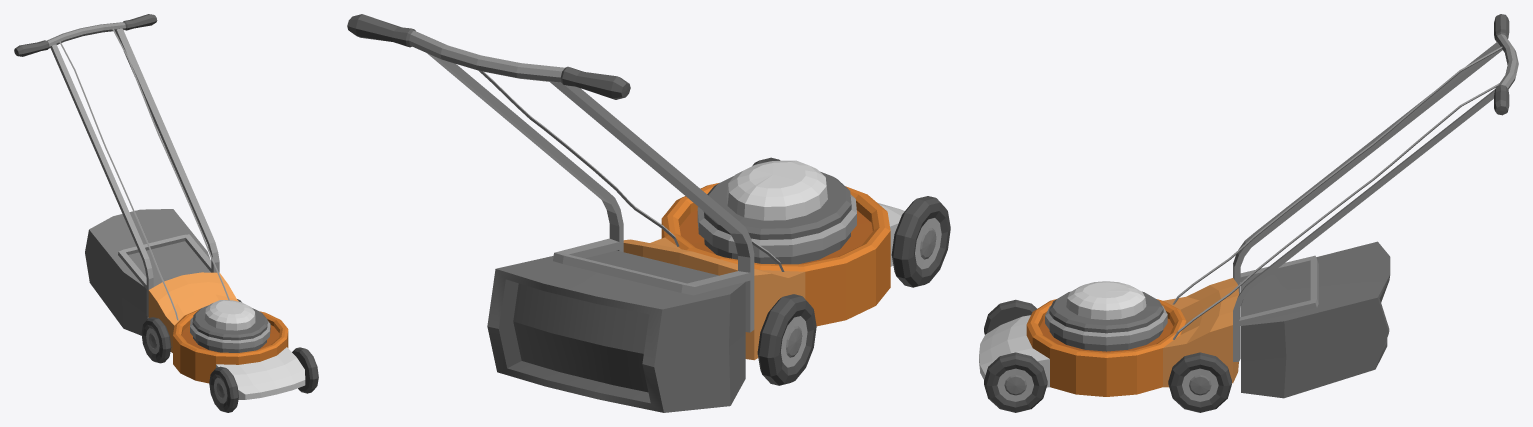
Rendered from LawnMower_M.gltf.
3 views of the same model, side by side, from view 1: azimuth 30°, elevation 25°; view 2: azimuth 150°, elevation 25°; view 3: azimuth 270°, elevation 25° (orthographic). The views are drawn at different scales.
Visible parts, largest first — view 1: body; view 2: body; view 3: body.
Part boxes in pixels (x1,y1,x2,y2): body: (14, 14, 318, 412); body: (347, 14, 950, 412); body: (979, 14, 1518, 412).
Bounding box in the file's own units: 0.9286 × 1.54 × 2.3.
Materials: 1 (1 with a texture image).
